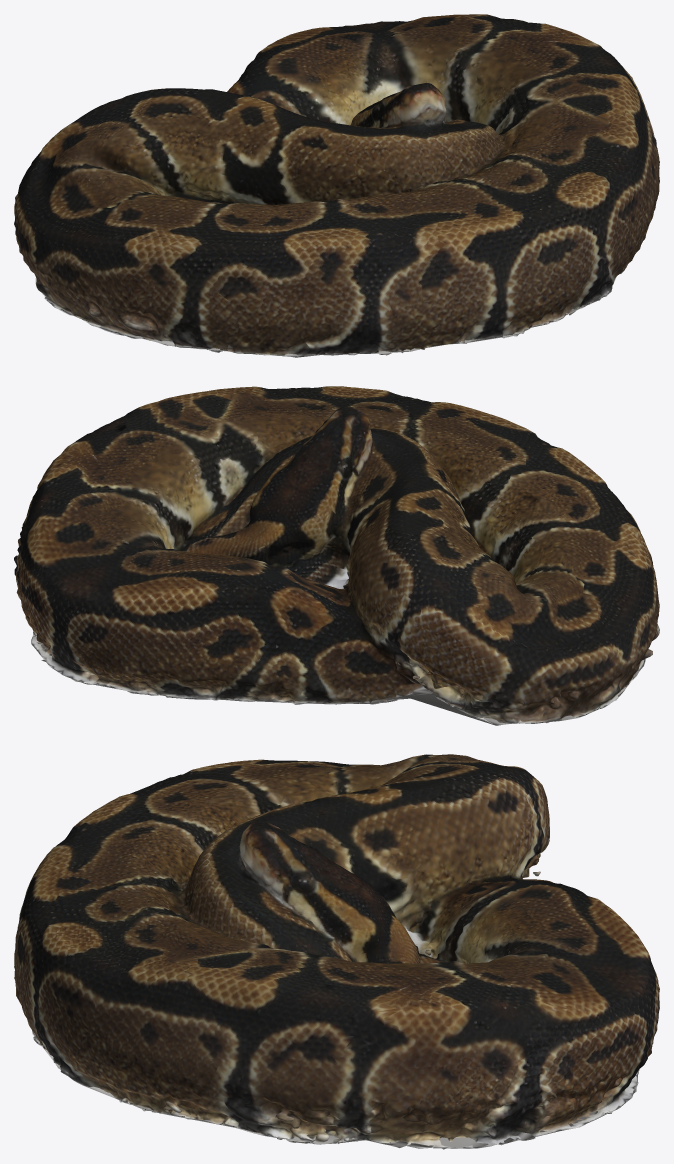
Rendered from ball_python__piton_bola.glb.
3 renders of one model, top to bottom at view 1: azimuth 30°, elevation 25°; view 2: azimuth 150°, elevation 25°; view 3: azimuth 270°, elevation 25°, orthographic. The views are drawn at different scales.
Visible parts, largest first — view 1: pitonbolasinhole_0; view 2: pitonbolasinhole_0; view 3: pitonbolasinhole_0.
Part boxes in pixels (bbox=[...]): pitonbolasinhole_0: bbox=[14, 14, 659, 357]; pitonbolasinhole_0: bbox=[14, 386, 659, 725]; pitonbolasinhole_0: bbox=[14, 754, 659, 1149].
Size of the model in its own units: 0.2489 by 0.0746 by 0.2098.
Materials: 1 (1 with a texture image).
